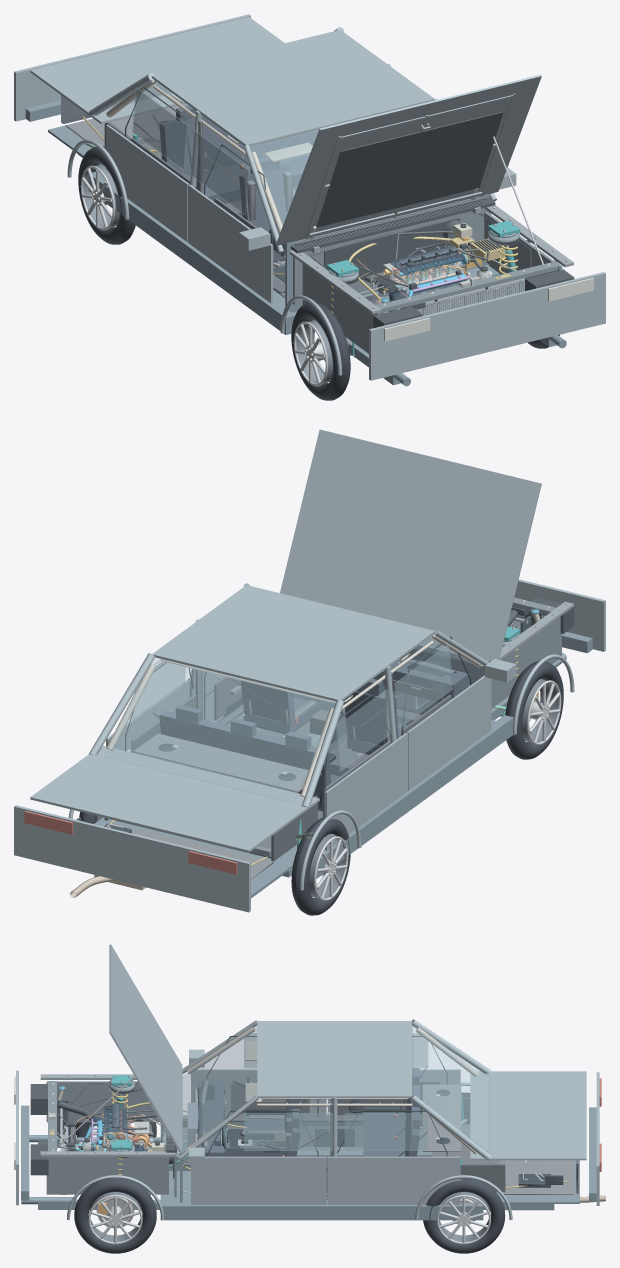
The model's file is cruze-full-r7.glb.
3 renders of one model, top to bottom at view 1: azimuth 30°, elevation 25°; view 2: azimuth 150°, elevation 25°; view 3: azimuth 270°, elevation 25°, orthographic. The views are drawn at different scales.
Visible parts, largest first — view 1: roof, bay_hood_pad, front_fascia, hood, trunk_lid, front_door_L, rear_door_L, sill_L, rear_seat_back, windshield, bay_firewall_insulation, sideglass_front_L (+35 smaller); view 2: hood, rear_glass, roof, trunk_lid, rear_fascia, front_door_L, rear_door_L, r7_parcel_shelf, rear_seat_back, sill_L, sideglass_front_L, sideglass_rear_L (+26 smaller); view 3: roof, trunk_lid, hood, front_door_R, rear_door_R, rear_glass, windshield, sill_R, bay_apron_R, sideglass_front_R, sideglass_rear_R, tire_FR (+44 smaller).
Part boxes in pixels (x1,y1,x2,y2): roof: (151,30,434,146); bay_hood_pad: (316,111,503,227); front_fascia: (369,272,605,380); hood: (276,74,541,245); trunk_lid: (30,17,284,124); front_door_L: (188,184,273,303); rear_door_L: (106,124,189,242); sill_L: (88,172,294,334); rear_seat_back: (159,115,318,176); windshield: (250,130,318,224); bay_firewall_insulation: (324,218,459,280); sideglass_front_L: (190,130,249,215); hood: (280,429,541,660); rear_glass: (105,658,335,802); roof: (152,585,434,701); trunk_lid: (30,745,319,852); rear_fascia: (14,805,250,912); front_door_L: (406,675,491,790); rear_door_L: (324,733,408,850); r7_parcel_shelf: (133,733,322,792); rear_seat_back: (159,710,330,808); sill_L: (316,715,513,878); sideglass_front_L: (394,644,452,728); sideglass_rear_L: (336,689,391,771); roof: (257,1021,412,1098); trunk_lid: (470,1071,586,1160); hood: (109,944,182,1153); front_door_R: (191,1156,326,1204); rear_door_R: (327,1156,460,1204); rear_glass: (412,1024,489,1152); windshield: (183,1025,256,1151); sill_R: (160,1202,483,1220); bay_apron_R: (46,1157,168,1194); sideglass_front_R: (244,1113,332,1150); sideglass_rear_R: (344,1113,428,1150); tire_FR: (74,1178,156,1253).
Bounding box in the file's own units: 19.6 × 19 × 45.88.
